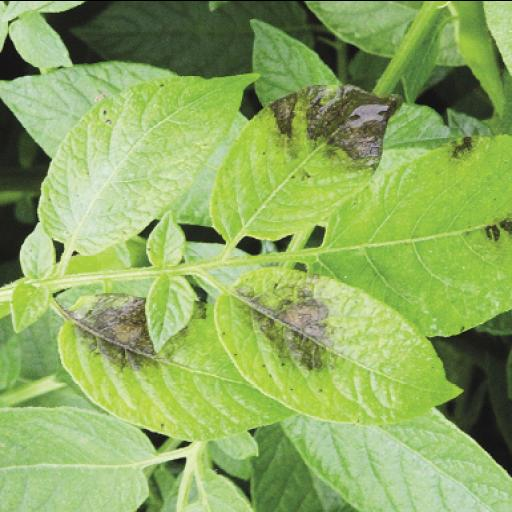disease_tomato: (212, 266, 464, 428), (51, 290, 295, 436), (214, 86, 404, 246)
